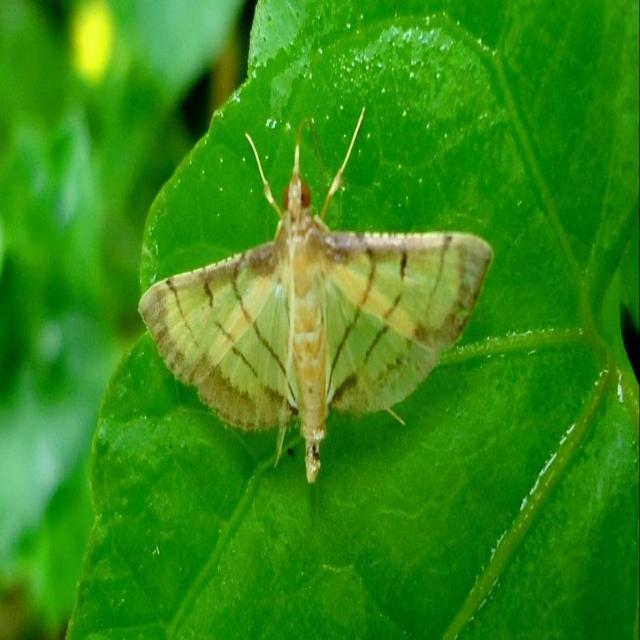rice leaf roller -penggulung daun padi-: (136, 104, 494, 488)
